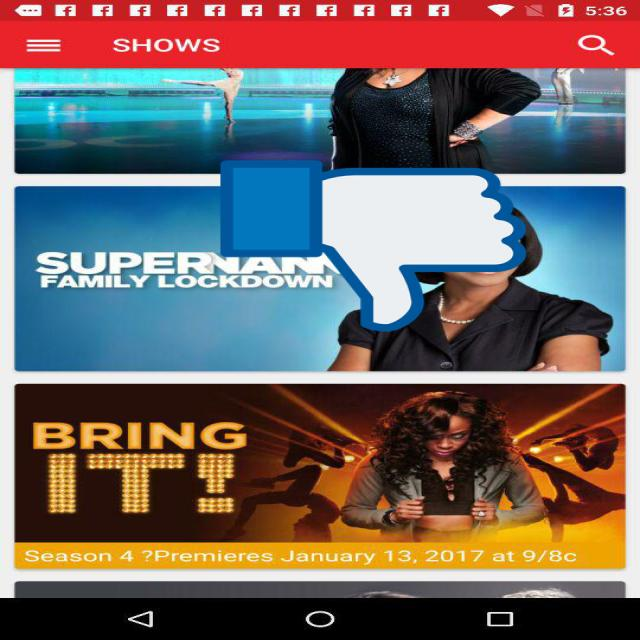obstruction: (220, 157, 526, 335)
